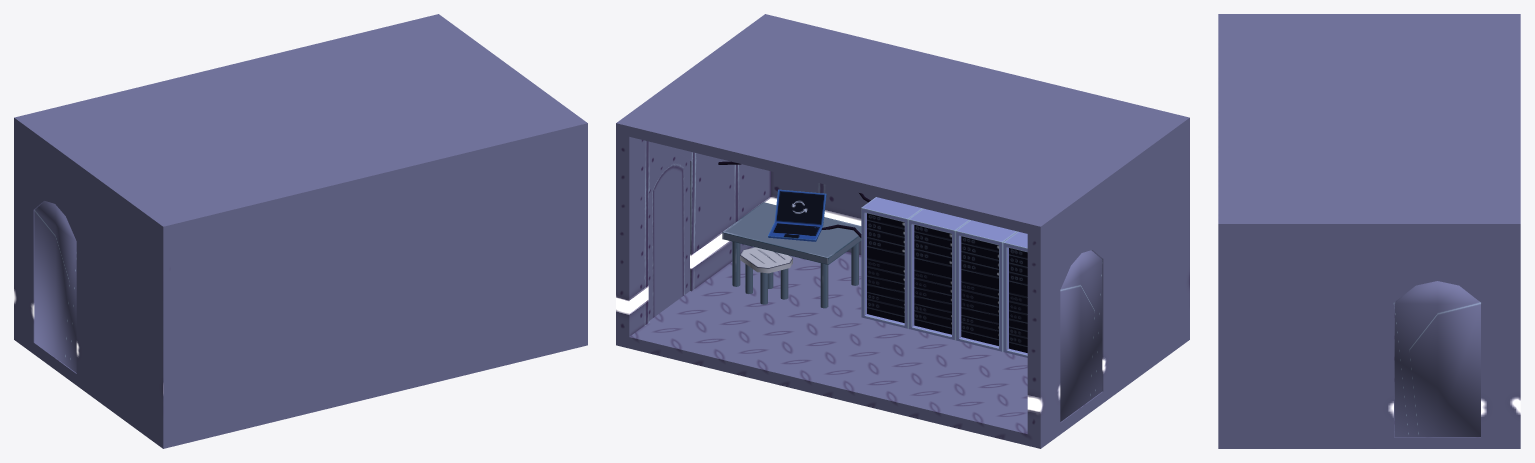
Rendered from complex_supply.fbx.
The picture shows the model from 3 angles, left to right: view 1: azimuth 30°, elevation 25°; view 2: azimuth 150°, elevation 25°; view 3: azimuth 270°, elevation 25°; orthographic projection.
Parts seen in each view (by area): view 1: base, base.002; view 2: base, base.002, Cube.006, Cube.005, Cube.004, base.001, Cube.001, Cube.007, Cube.003, Cube.009; view 3: base, base.001.
Boxes of the visible parts, <box> form: base: <box>14,14,587,448</box>; base.002: <box>34,201,76,372</box>; base: <box>616,14,1189,448</box>; base.002: <box>1060,250,1102,421</box>; Cube.006: <box>955,220,1017,351</box>; Cube.005: <box>908,208,969,339</box>; Cube.004: <box>861,197,922,328</box>; base.001: <box>648,154,689,320</box>; Cube.001: <box>722,202,861,308</box>; Cube.007: <box>1003,231,1027,357</box>; Cube.003: <box>768,189,826,241</box>; Cube.009: <box>740,247,792,304</box>; base: <box>1218,14,1520,448</box>; base.001: <box>1394,281,1480,436</box>.
Bounding box in the file's own units: 800 × 400 × 487.
